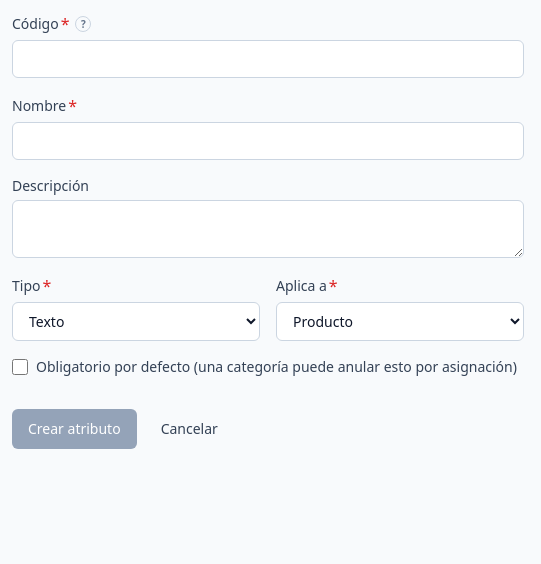
AttributeForm › create: blocks min > max client-side
This screenshot has width=541, height=564.
Type "x" into the field labelled "Código". click: {"x": 268, "y": 59}
box: [12,40,524,78]
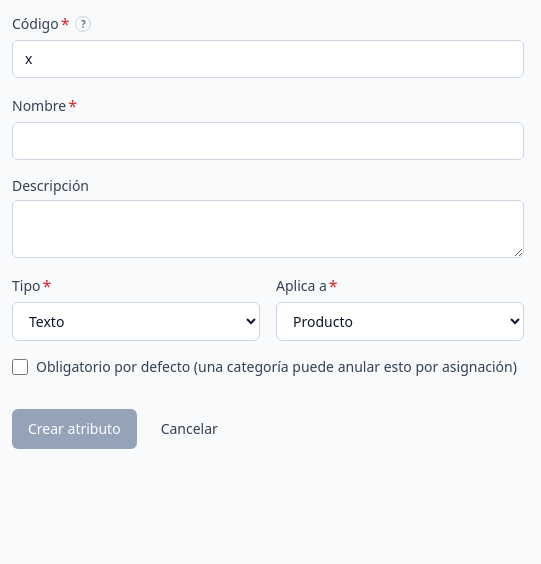
Type "X" into the field labelled "Nombre". click: {"x": 268, "y": 141}
box: [12,122,524,160]
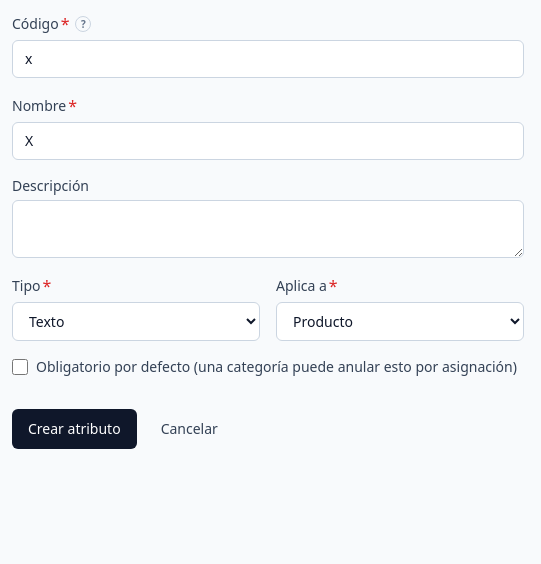
Select "Número" in the dropdown labelled "Tipo". click: {"x": 136, "y": 322}
box: [12,302,260,341]
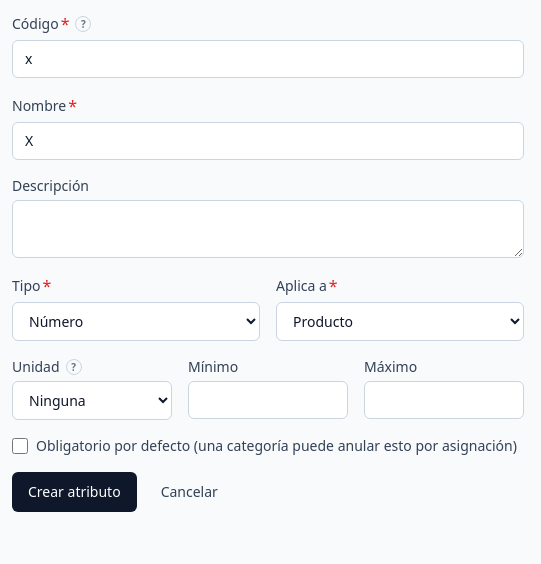
Type "50" into the number field labelled "Mínimo". click: {"x": 268, "y": 400}
box: [188,381,348,419]
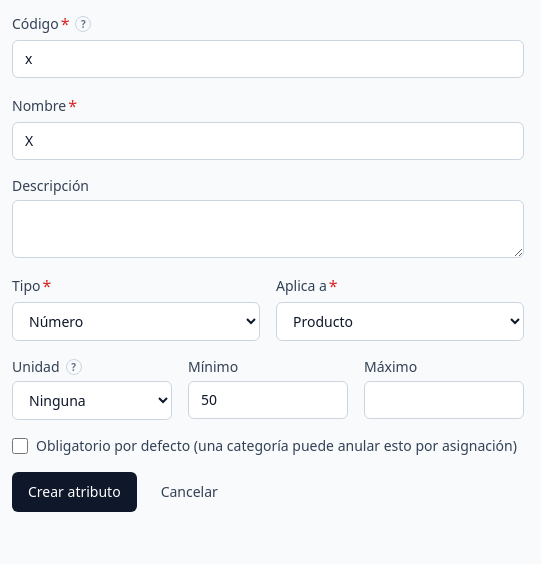
Type "10" into the number field labelled "Máximo". click: {"x": 444, "y": 400}
box: [364,381,524,419]
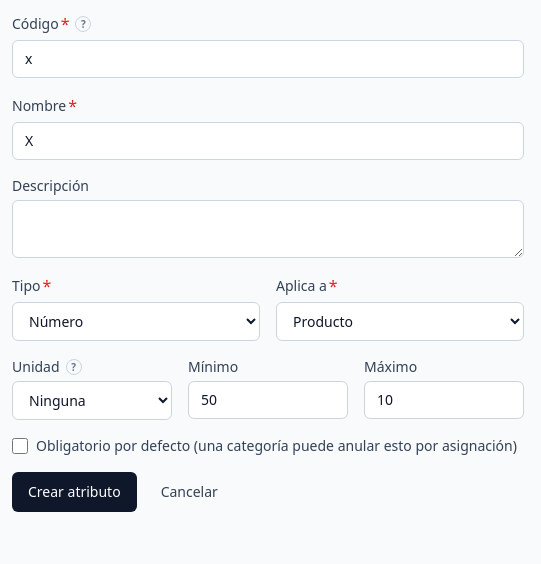
Click the button "Crear atributo". click: {"x": 74, "y": 492}
box: [12,472,137,512]
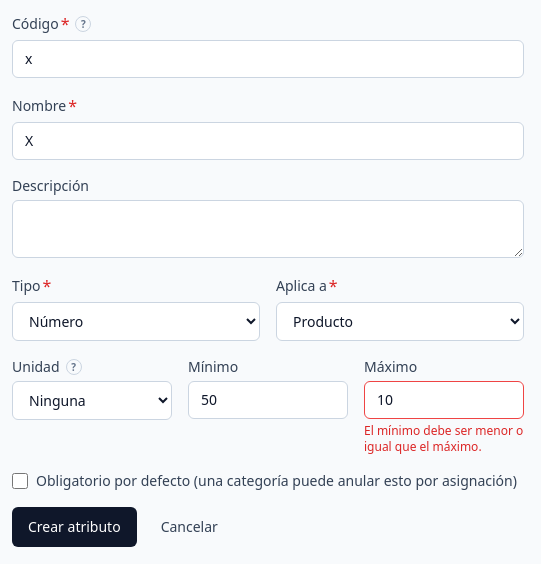
Expected: the text "El mínimo debe ser menor o igual que el máximo." is shown, [364,423,524,455]
